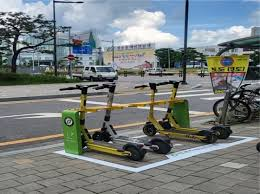kick_handler: (61, 84, 97, 91), (95, 82, 116, 91), (136, 82, 162, 89), (162, 79, 183, 86)
kick_wheel: (152, 137, 170, 152), (127, 144, 143, 160), (213, 125, 230, 139), (200, 129, 213, 142), (142, 123, 156, 135), (93, 131, 107, 139)
